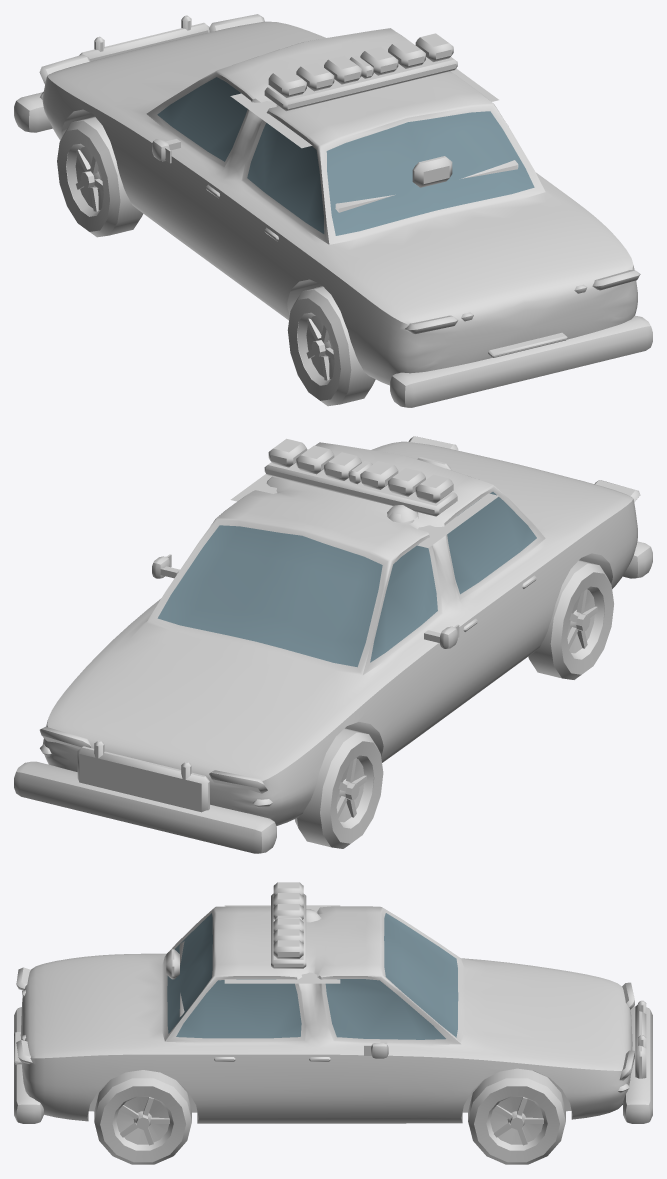
The model's file is car_police.glb.
3 views of the same model, one above another, from view 1: azimuth 30°, elevation 25°; view 2: azimuth 150°, elevation 25°; view 3: azimuth 270°, elevation 25° (orthographic). The views are drawn at different scales.
Parts seen in each view (by area): view 1: car_police; view 2: car_police; view 3: car_police.
Boxes of the visible parts, x1,y1,x2,y2 form: car_police: (14,14,652,407); car_police: (14,436,652,853); car_police: (14,882,652,1164).
Bounding box in the file's own units: 2.06 × 1.62 × 4.7.
